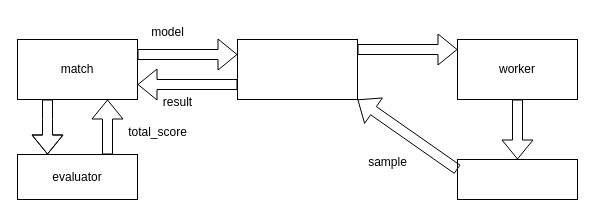
This 595x217 diagram has some shape labels left out. Each missing label, with the centre of its shape:
learner: [297,69]
memopool: [517,179]
